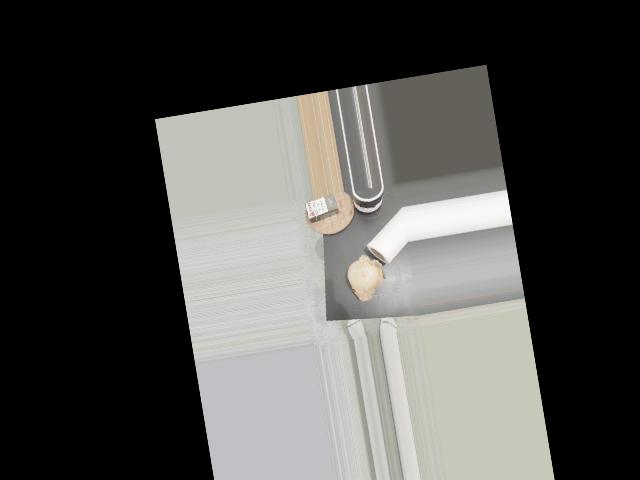onion: (342, 253, 383, 301)
